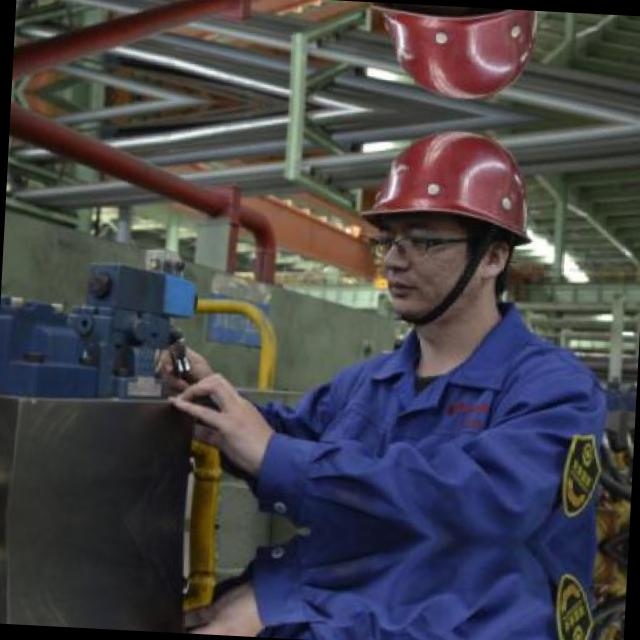helmet: (336, 114, 554, 342), (347, 1, 560, 115)
